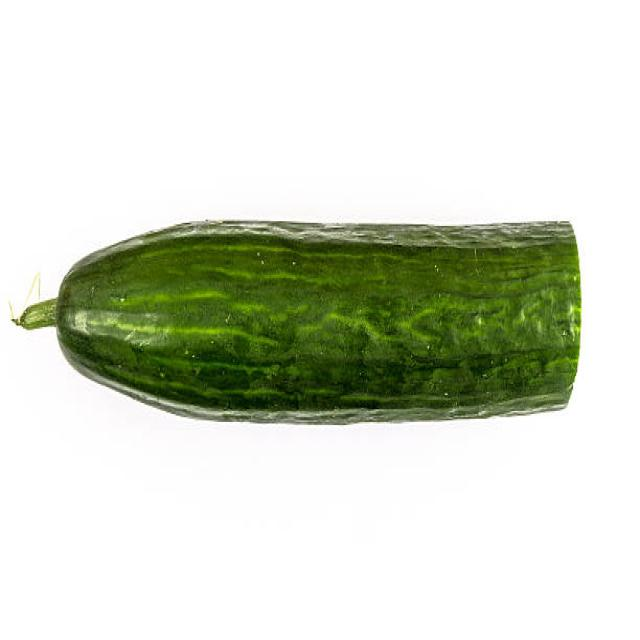cucumber: (58, 219, 584, 428)
